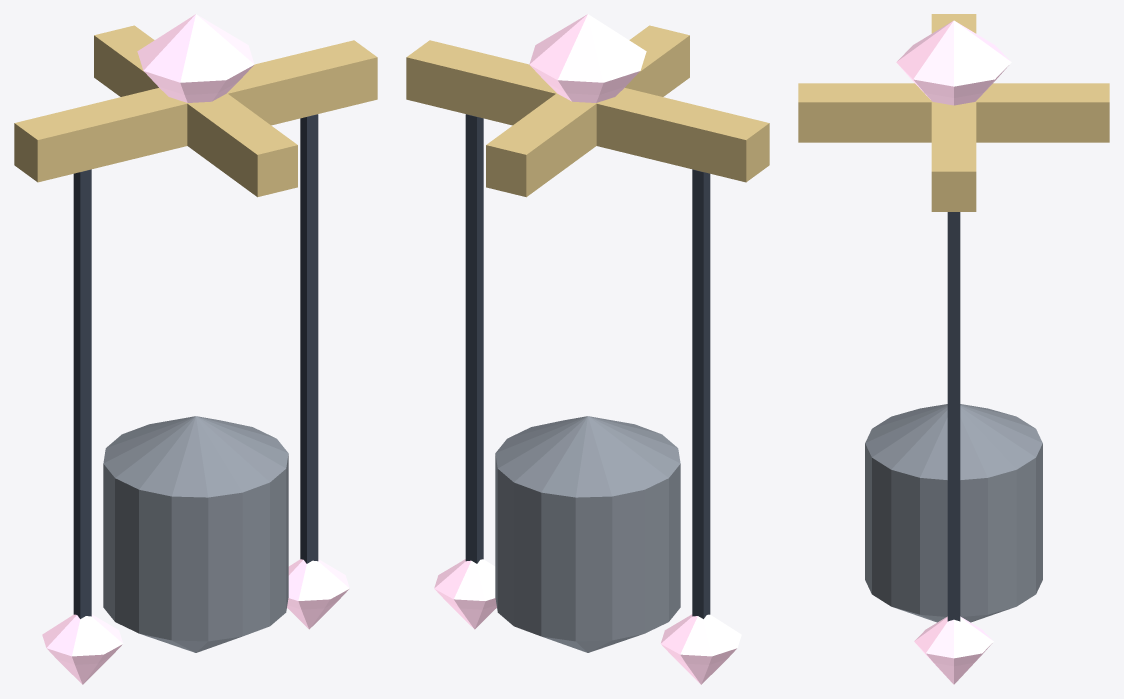
File: trudice_relic.gltf
3 views of the same model, side by side, from view 1: azimuth 30°, elevation 25°; view 2: azimuth 150°, elevation 25°; view 3: azimuth 270°, elevation 25° (orthographic). The views are drawn at different scales.
Visible parts, largest first — view 1: trudice_puppet_relic_review; view 2: trudice_puppet_relic_review; view 3: trudice_puppet_relic_review.
Boxes of the visible parts, x1,y1,x2,y2 form: trudice_puppet_relic_review: [14, 14, 377, 684]; trudice_puppet_relic_review: [406, 14, 769, 684]; trudice_puppet_relic_review: [798, 14, 1109, 684].
Size of the model in its own units: 0.42 by 0.76 by 0.35.
